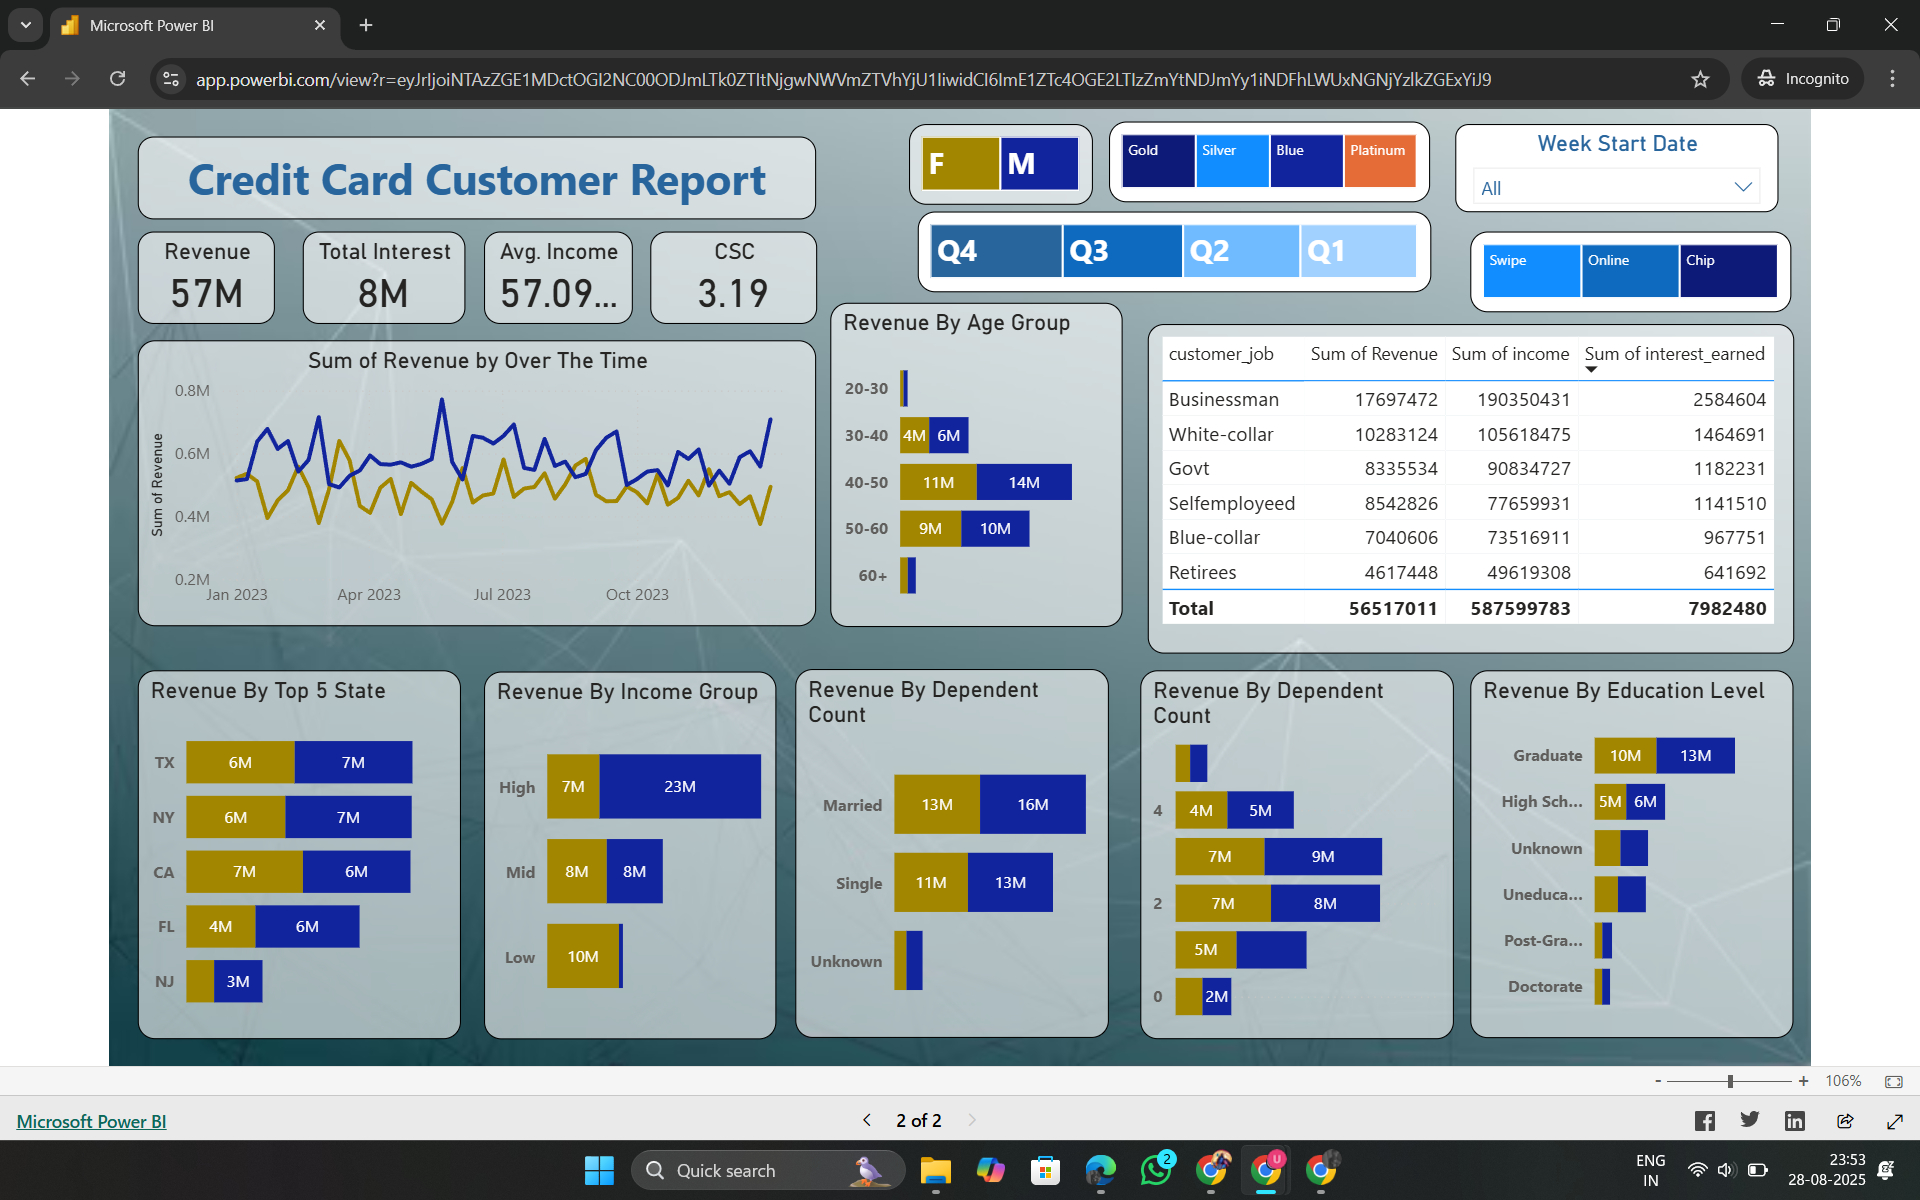

The dashboard page shown, as its layout file describes it:
{"tool":"powerbi","page":{"name":"Customer-Details","canvas":[1280,720],"ordinal":2},"visuals":[{"type":"textbox","box":[22.1,20.9,510.5,62],"z":0},{"type":"barChart","title":"Revenue By Income Group","fields":{"Y":["Sum(public cc_detail.Revenue)"],"Category":["public cust_detail.incomeGroup"],"Series":["public cust_detail.gender"]},"box":[282.6,423.3,219.8,276.7],"z":1000},{"type":"tableEx","fields":{"Values":["public cust_detail.customer_job","Sum(public cc_detail.Revenue)","Sum(public cust_detail.income)","Sum(public cc_detail.interest_earned)"]},"box":[781.4,161.6,486,247.7],"z":2000},{"type":"card","title":"Revenue","fields":{"Values":["Sum(public cc_detail.Revenue)"]},"box":[22.1,91.9,103.5,69.8],"z":3000},{"type":"card","title":"Avg. Income","fields":{"Values":["Avg(public cust_detail.income)"]},"box":[282.6,91.9,111.6,69.8],"z":4000},{"type":"card","title":"Total Interest","fields":{"Values":["Sum(public cc_detail.interest_earned)"]},"box":[145.3,91.9,122.1,69.8],"z":5000},{"type":"card","title":"CSC","fields":{"Values":["Avg(public cust_detail.cust_satisfaction_score)"]},"box":[407,91.9,125.6,69.8],"z":6000},{"type":"slicer","title":"Week Start Date","fields":{"Values":["public cc_detail.week_start_date"]},"box":[1012.8,11.6,243,66.3],"z":7000},{"type":"treemap","fields":{"Group":["public cc_detail.qtr"],"Values":["Avg(public cc_detail.client_num)"]},"box":[608.1,76.7,386,60.5],"z":8000},{"type":"treemap","fields":{"Group":["public cust_detail.gender"],"Values":["Avg(public cc_detail.client_num)"]},"box":[602.3,11.6,138.4,60.5],"z":9000},{"type":"treemap","fields":{"Group":["public cc_detail.card_category"],"Values":["Avg(public cc_detail.client_num)"]},"box":[752.3,9.3,241.9,60.5],"z":11000},{"type":"lineChart","title":"Sum of Revenue by Over The Time","fields":{"Y":["Sum(public cc_detail.Revenue)"],"Series":["public cust_detail.gender"],"Category":["public cc_detail.week_start_date.Variation.Date Hierarchy.Year","public cc_detail.week_start_date.Variation.Date Hierarchy.Quarter","public cc_detail.week_start_date.Variation.Date Hierarchy.Month","public cc_detail.week_start_date.Variation.Date Hierarchy.Day"]},"box":[22.1,174.4,510.5,215.1],"z":12000},{"type":"barChart","title":"Revenue By Age Group","fields":{"Y":["Sum(public cc_detail.Revenue)"],"Category":["public cust_detail.AgeGroup"],"Series":["public cust_detail.gender"]},"box":[543,145.3,219.8,244.2],"z":13000},{"type":"barChart","title":"Revenue By Dependent Count","fields":{"Y":["Sum(public cc_detail.Revenue)"],"Category":["public cust_detail.dependent_count"],"Series":["public cust_detail.gender"]},"box":[775.6,422.1,236,277.9],"z":14000},{"type":"barChart","title":"Revenue By Education Level","fields":{"Y":["Sum(public cc_detail.Revenue)"],"Category":["public cust_detail.education_level"],"Series":["public cust_detail.gender"]},"box":[1024.4,422.1,243,276.7],"z":15000},{"type":"barChart","title":"Revenue By Top 5 State","fields":{"Y":["Sum(public cc_detail.Revenue)"],"Category":["public cust_detail.state_cd"],"Series":["public cust_detail.gender"]},"box":[22.1,422.1,243,277.9],"z":16000},{"type":"barChart","title":"Revenue By Dependent Count","fields":{"Y":["Sum(public cc_detail.Revenue)"],"Category":["public cust_detail.marital_status"],"Series":["public cust_detail.gender"]},"box":[516.3,420.9,236,277.9],"z":17000},{"type":"treemap","fields":{"Values":["Avg(public cc_detail.client_num)"],"Group":["public cc_detail.use_chip"]},"box":[1024.4,91.9,241.9,60.5],"z":17001}]}

Visuals, with their boxes on the page's 1280x720 design canvas (x1, y1, x2, y2). These are canvas units, not pixel positions in the 1920x1200 screenshot, which may show the page scaled, cropped or inside an application window:
textbox: x1=22, y1=21, x2=533, y2=83
"Revenue By Income Group" barChart: x1=283, y1=423, x2=502, y2=700
tableEx - public cust_detail.customer_job x Sum(public cc_detail.Revenue): x1=781, y1=162, x2=1267, y2=409
"Revenue" card: x1=22, y1=92, x2=126, y2=162
"Avg. Income" card: x1=283, y1=92, x2=394, y2=162
"Total Interest" card: x1=145, y1=92, x2=267, y2=162
"CSC" card: x1=407, y1=92, x2=533, y2=162
"Week Start Date" slicer: x1=1013, y1=12, x2=1256, y2=78
treemap - public cc_detail.qtr x Avg(public cc_detail.client_num): x1=608, y1=77, x2=994, y2=137
treemap - public cust_detail.gender x Avg(public cc_detail.client_num): x1=602, y1=12, x2=741, y2=72
treemap - public cc_detail.card_category x Avg(public cc_detail.client_num): x1=752, y1=9, x2=994, y2=70
"Sum of Revenue by Over The Time" lineChart: x1=22, y1=174, x2=533, y2=390
"Revenue By Age Group" barChart: x1=543, y1=145, x2=763, y2=390
"Revenue By Dependent Count" barChart: x1=776, y1=422, x2=1012, y2=700
"Revenue By Education Level" barChart: x1=1024, y1=422, x2=1267, y2=699
"Revenue By Top 5 State" barChart: x1=22, y1=422, x2=265, y2=700
"Revenue By Dependent Count" barChart: x1=516, y1=421, x2=752, y2=699
treemap - Avg(public cc_detail.client_num) x public cc_detail.use_chip: x1=1024, y1=92, x2=1266, y2=152
